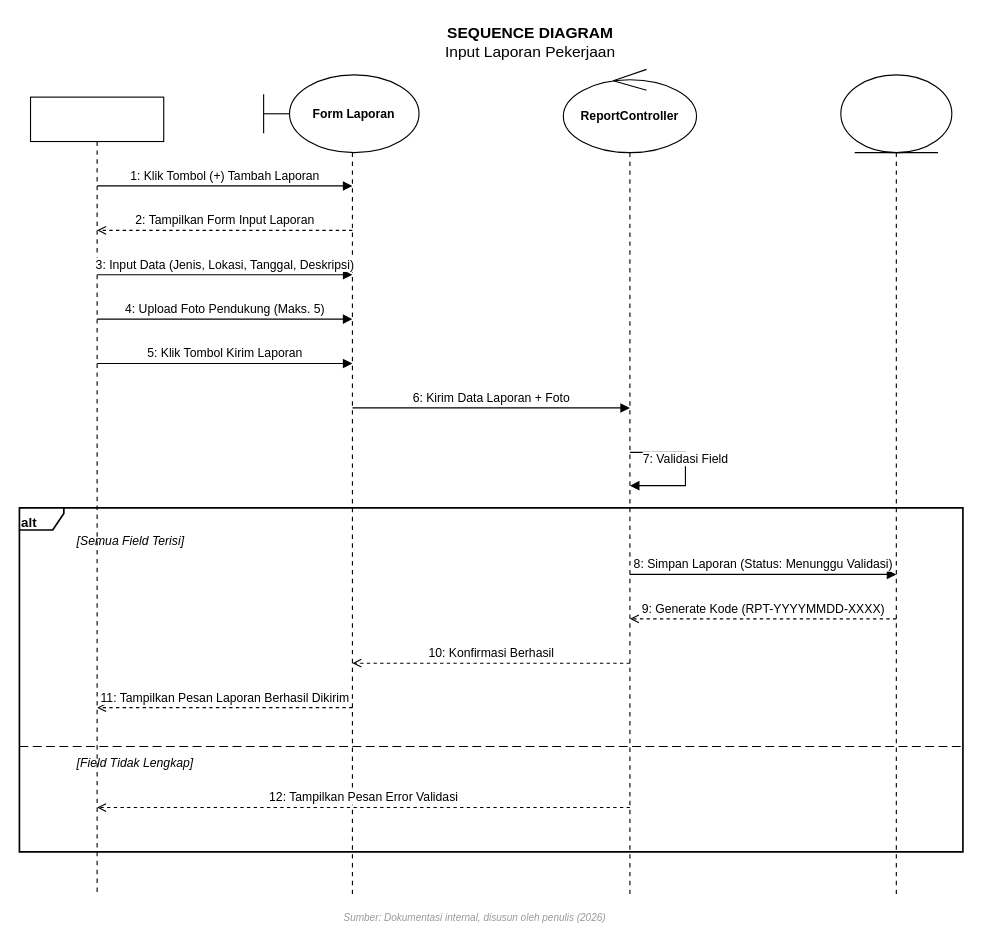
Some shapes in this 983 by 948 pixel diagram are drawn without their labels. Each missing label, with the box of its shape:
Database: (840, 74, 952, 153)
Teknisi: (29, 96, 164, 142)
